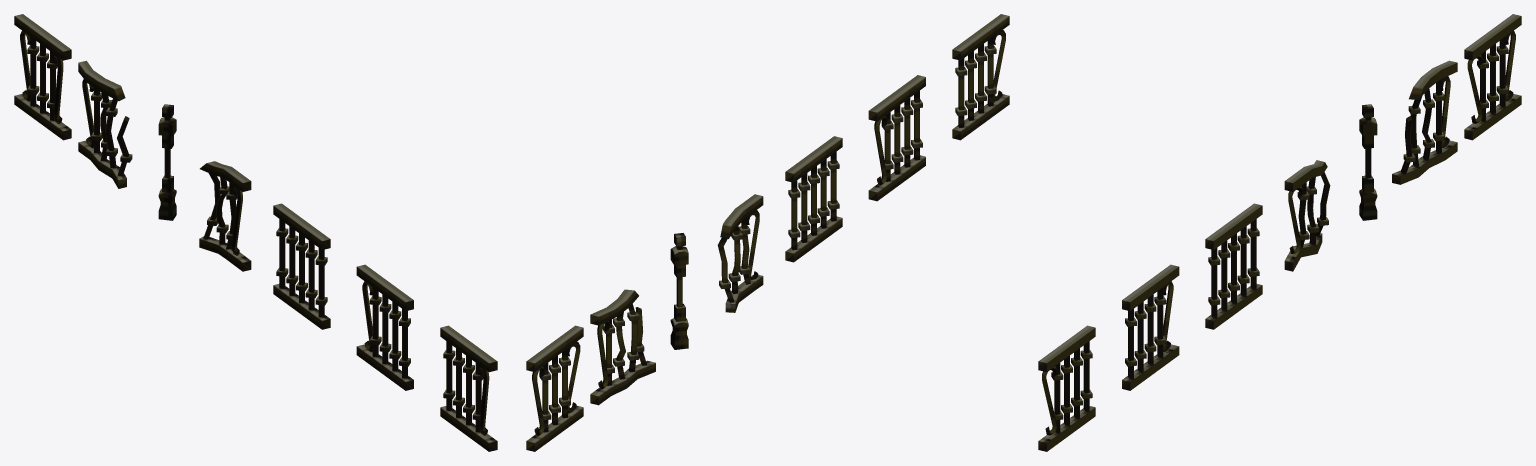
File: EnvMdrMD_City_A_Fence_A_End_A.FBX
The picture shows the model from 3 angles, left to right: view 1: azimuth 30°, elevation 25°; view 2: azimuth 150°, elevation 25°; view 3: azimuth 330°, elevation 25°; orthographic projection.
Visible parts, largest first — view 1: EnvMdrMD_City_A_Fence_A_Loop_A, EnvMdrMD_City_A_Fence_A_Start_A, EnvMdrMD_City_A_Fence_A_End_A, EnvMdrMD_City_A_Fence_A_Loop_B, EnvMdrMD_City_A_Fence_A_Start_B, EnvMdrMD_City_A_Fence_A_End_B, EnvMdrMD_City_A_Fence_A_Post_A; view 2: EnvMdrMD_City_A_Fence_A_Loop_A, EnvMdrMD_City_A_Fence_A_Start_A, EnvMdrMD_City_A_Fence_A_End_A, EnvMdrMD_City_A_Fence_A_Loop_B, EnvMdrMD_City_A_Fence_A_Start_B, EnvMdrMD_City_A_Fence_A_End_B, EnvMdrMD_City_A_Fence_A_Post_A; view 3: EnvMdrMD_City_A_Fence_A_Loop_A, EnvMdrMD_City_A_Fence_A_Start_A, EnvMdrMD_City_A_Fence_A_End_A, EnvMdrMD_City_A_Fence_A_Loop_B, EnvMdrMD_City_A_Fence_A_Start_B, EnvMdrMD_City_A_Fence_A_End_B, EnvMdrMD_City_A_Fence_A_Post_A.
Boxes of the visible parts, x1=… form: EnvMdrMD_City_A_Fence_A_Loop_A: x1=273, y1=203, x2=330, y2=329; EnvMdrMD_City_A_Fence_A_Start_A: x1=356, y1=264, x2=413, y2=390; EnvMdrMD_City_A_Fence_A_End_A: x1=440, y1=325, x2=497, y2=451; EnvMdrMD_City_A_Fence_A_Loop_B: x1=14, y1=14, x2=71, y2=140; EnvMdrMD_City_A_Fence_A_Start_B: x1=78, y1=60, x2=132, y2=188; EnvMdrMD_City_A_Fence_A_End_B: x1=199, y1=161, x2=251, y2=271; EnvMdrMD_City_A_Fence_A_Post_A: x1=158, y1=104, x2=176, y2=220; EnvMdrMD_City_A_Fence_A_Loop_A: x1=785, y1=136, x2=842, y2=262; EnvMdrMD_City_A_Fence_A_Start_A: x1=868, y1=75, x2=925, y2=201; EnvMdrMD_City_A_Fence_A_End_A: x1=952, y1=14, x2=1009, y2=140; EnvMdrMD_City_A_Fence_A_Loop_B: x1=526, y1=325, x2=583, y2=451; EnvMdrMD_City_A_Fence_A_Start_B: x1=590, y1=289, x2=655, y2=405; EnvMdrMD_City_A_Fence_A_End_B: x1=717, y1=194, x2=763, y2=312; EnvMdrMD_City_A_Fence_A_Post_A: x1=670, y1=233, x2=688, y2=349; EnvMdrMD_City_A_Fence_A_Loop_A: x1=1205, y1=203, x2=1262, y2=329; EnvMdrMD_City_A_Fence_A_Start_A: x1=1122, y1=264, x2=1179, y2=390; EnvMdrMD_City_A_Fence_A_End_A: x1=1038, y1=325, x2=1095, y2=451; EnvMdrMD_City_A_Fence_A_Loop_B: x1=1464, y1=14, x2=1521, y2=140; EnvMdrMD_City_A_Fence_A_Start_B: x1=1392, y1=60, x2=1457, y2=184; EnvMdrMD_City_A_Fence_A_End_B: x1=1284, y1=160, x2=1330, y2=271; EnvMdrMD_City_A_Fence_A_Post_A: x1=1359, y1=104, x2=1377, y2=220.
Size of the model in its own units: 25.74 by 125 by 971.
Materials: 1 (1 with a texture image).
